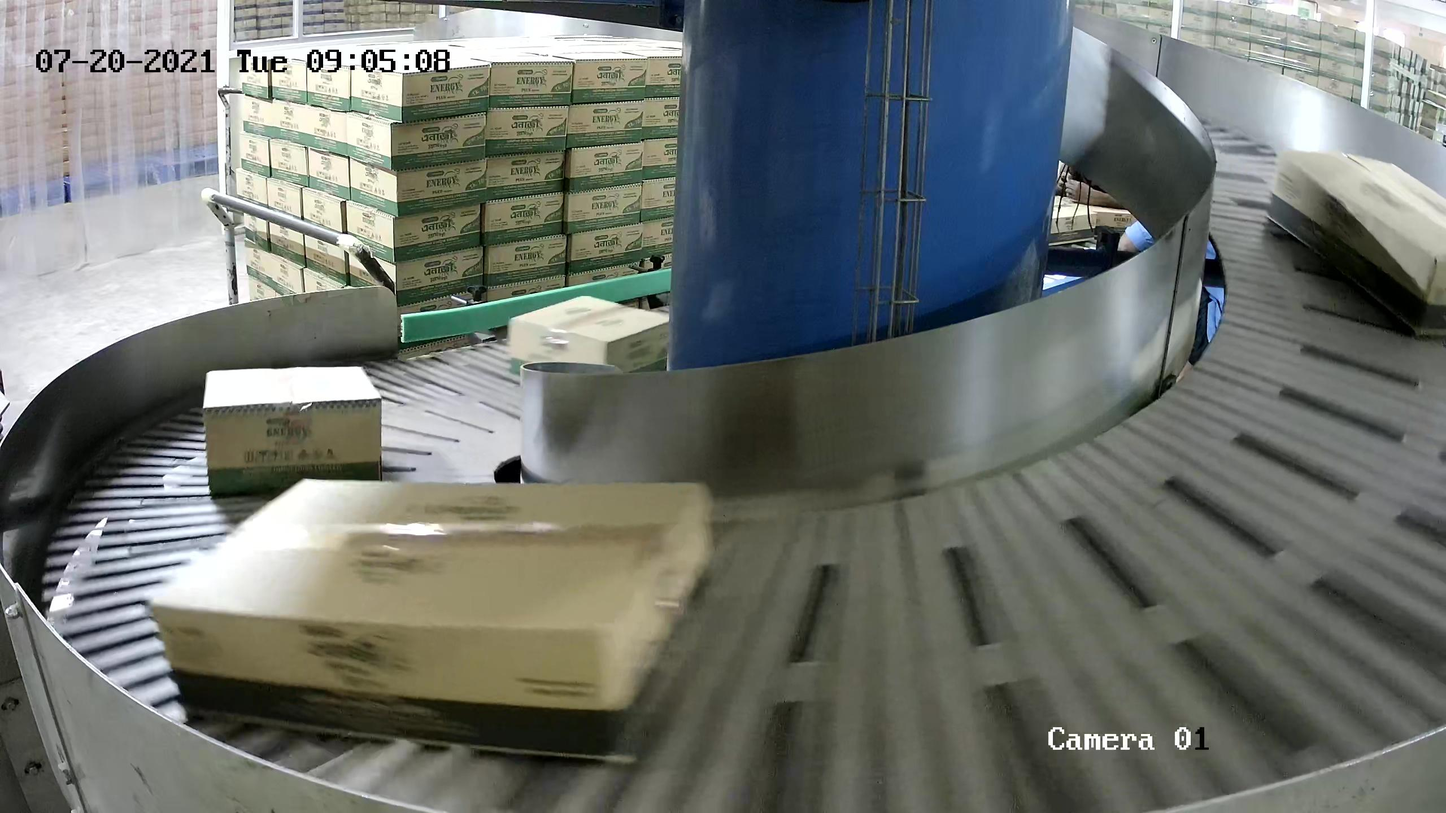Box: (143, 477, 729, 768), (1263, 143, 1446, 343), (202, 365, 385, 500), (509, 294, 687, 402)
